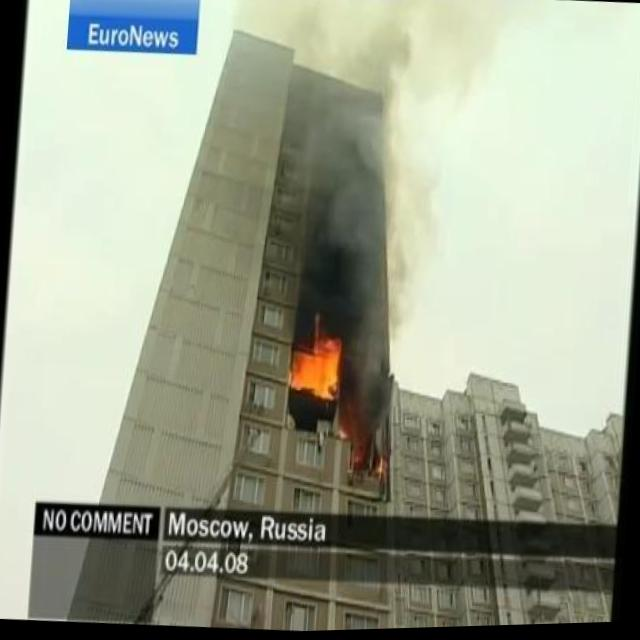fire: (287, 321, 347, 404)
